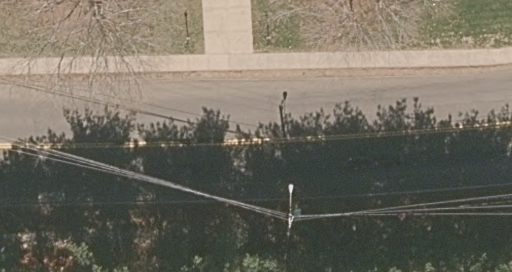DT: (280, 182, 304, 239)
